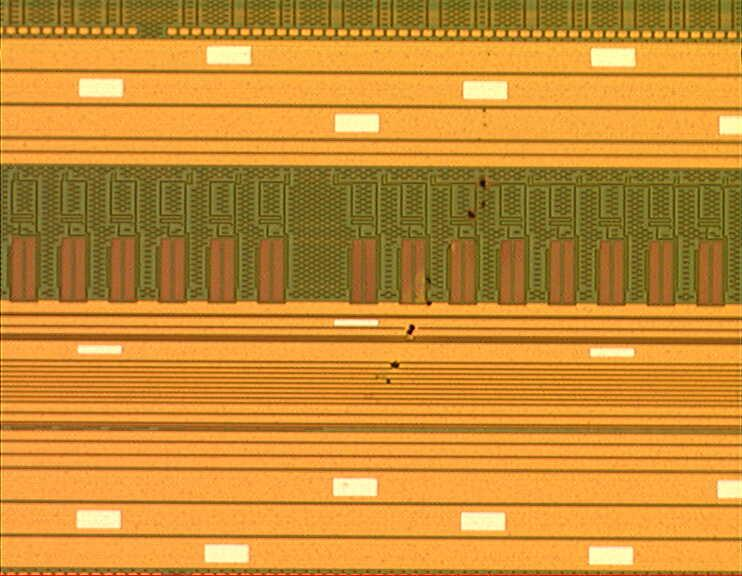PO CONTAMINATION: (377, 47, 503, 393)
